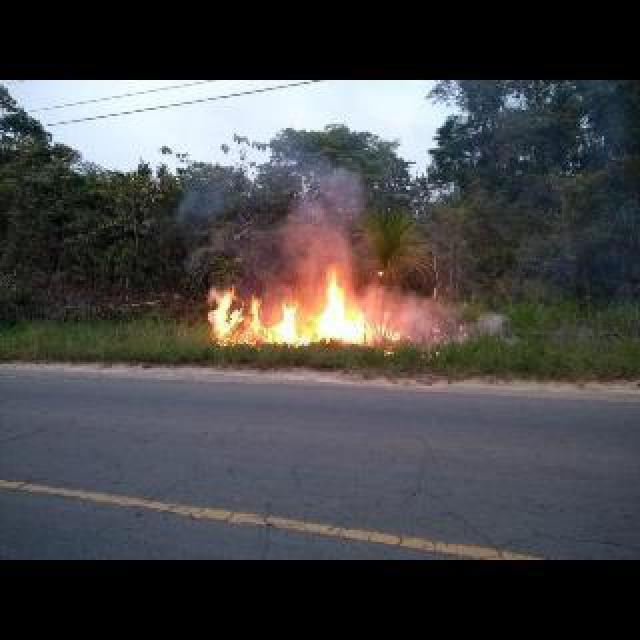fire: (179, 118, 403, 264), (407, 270, 519, 344)
smoke: (208, 260, 370, 350)
